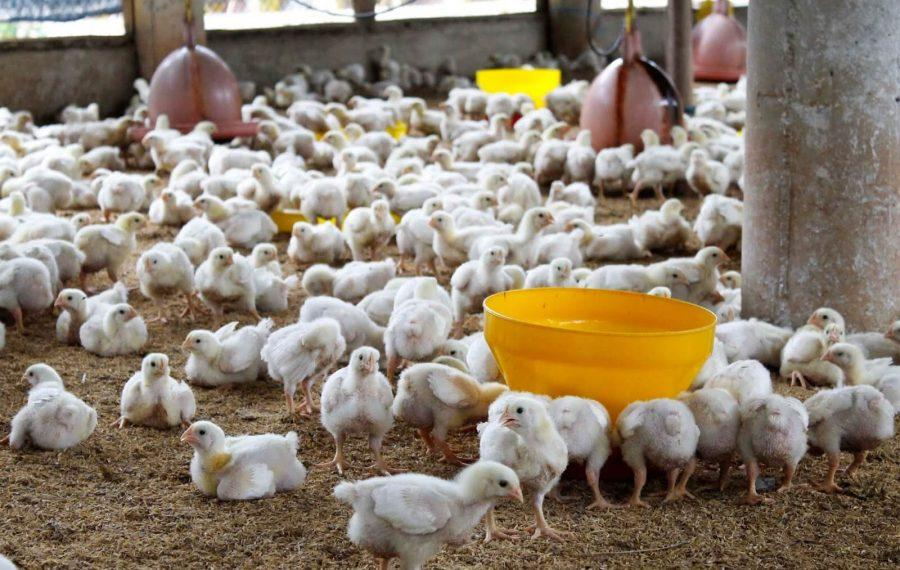chicken: (334, 461, 528, 569), (473, 397, 572, 543), (396, 361, 504, 454), (184, 422, 304, 502), (807, 391, 896, 491), (616, 398, 698, 498), (327, 348, 396, 465), (739, 392, 809, 502), (266, 318, 344, 410), (13, 363, 97, 448), (184, 314, 278, 387), (554, 398, 608, 511), (821, 345, 900, 415), (120, 354, 196, 425), (390, 274, 451, 356), (78, 208, 151, 275), (478, 207, 558, 264), (455, 244, 510, 321), (197, 247, 258, 316), (52, 284, 123, 339), (427, 212, 509, 259), (193, 196, 278, 241), (696, 386, 739, 473), (142, 242, 197, 309), (668, 247, 728, 303), (344, 200, 396, 264), (83, 304, 147, 353), (706, 357, 772, 402), (288, 219, 343, 266), (525, 254, 573, 291)
